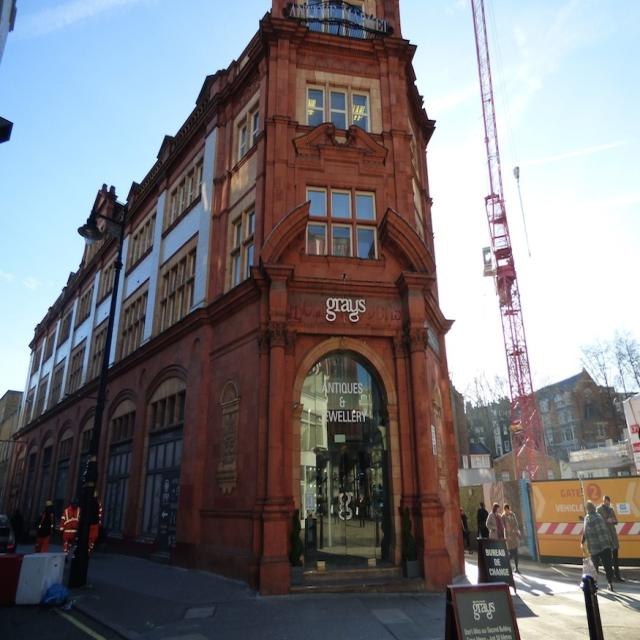body: (578, 497, 616, 594), (320, 475, 382, 532), (595, 494, 627, 585), (58, 492, 82, 565), (500, 502, 522, 576), (34, 500, 55, 553), (6, 504, 27, 556), (87, 489, 103, 556), (485, 502, 505, 540), (460, 507, 475, 556), (476, 502, 490, 540), (463, 557, 480, 568)
